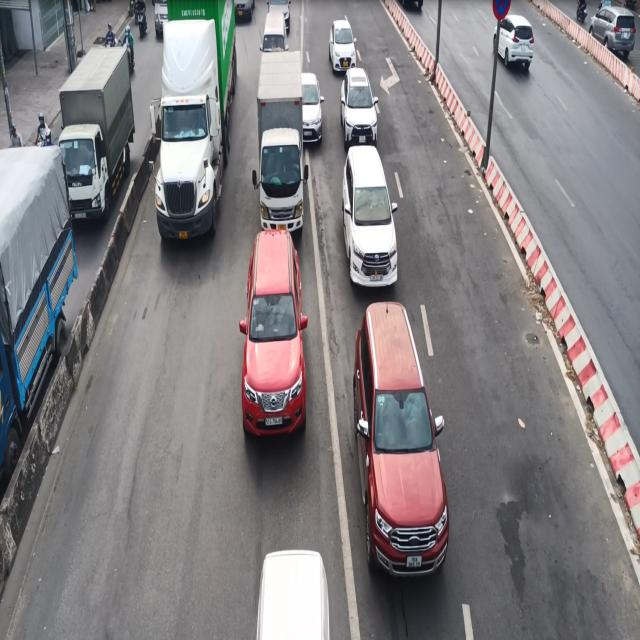car: (341, 284, 450, 581), (244, 233, 308, 443), (340, 144, 393, 295), (341, 67, 378, 146), (326, 17, 362, 76)
truck: (151, 0, 240, 250), (58, 46, 134, 209), (256, 51, 308, 234)
